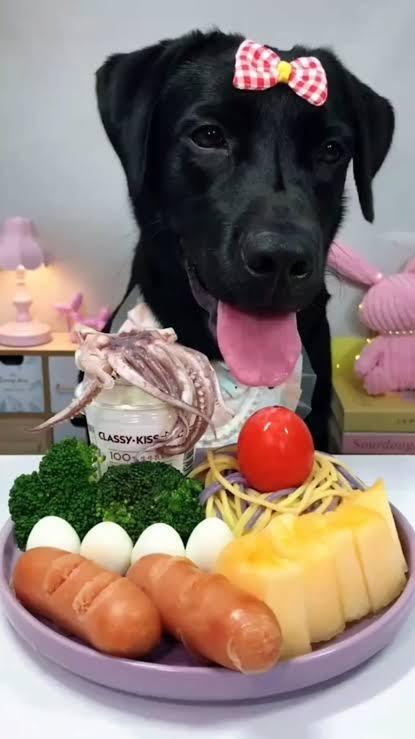adult_dog: (94, 26, 397, 454)
